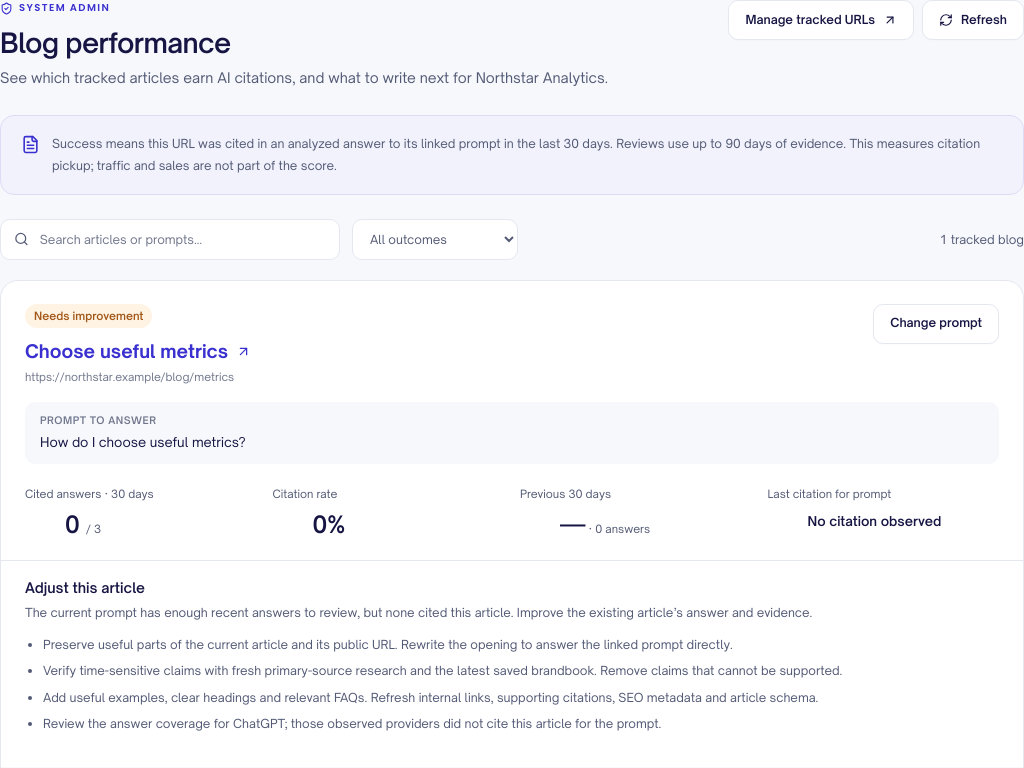
it: admin blog review › saves a versioned prompt link and can remove the association
The width and height of the screenshot is (1024, 768).
Click the button "Change prompt".
click(936, 324)  # box [873,304,999,344]
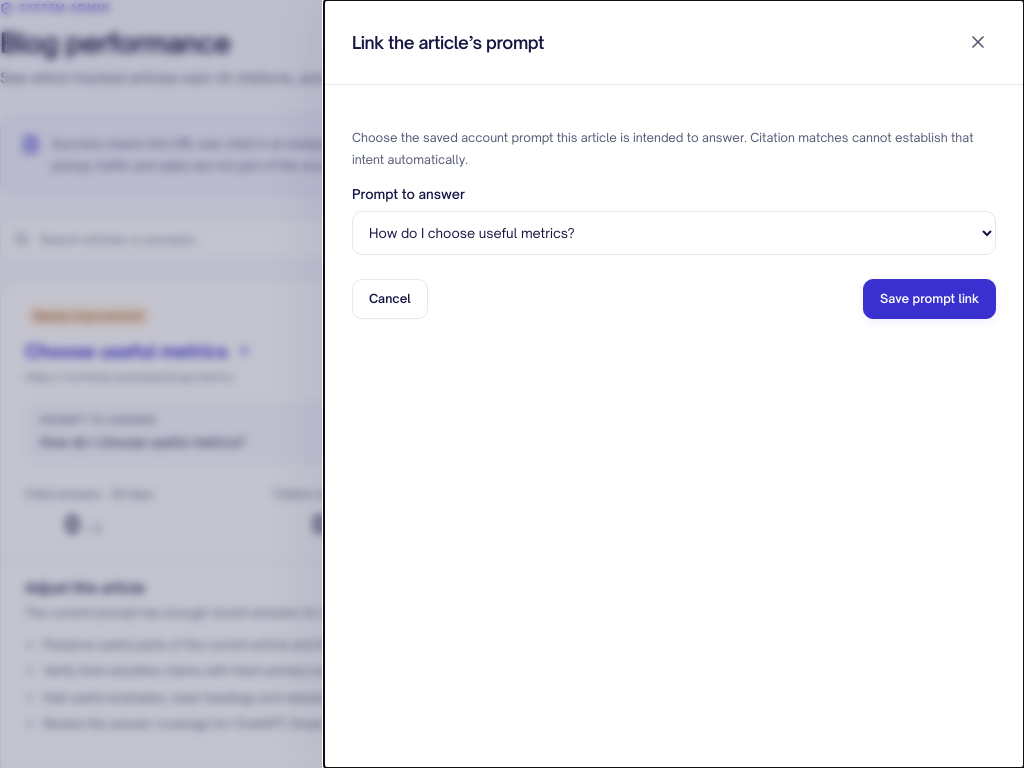
Select "No linked prompt" in the dropdown with id "blog-target-prompt" at (674, 233), box [352,211,996,255]
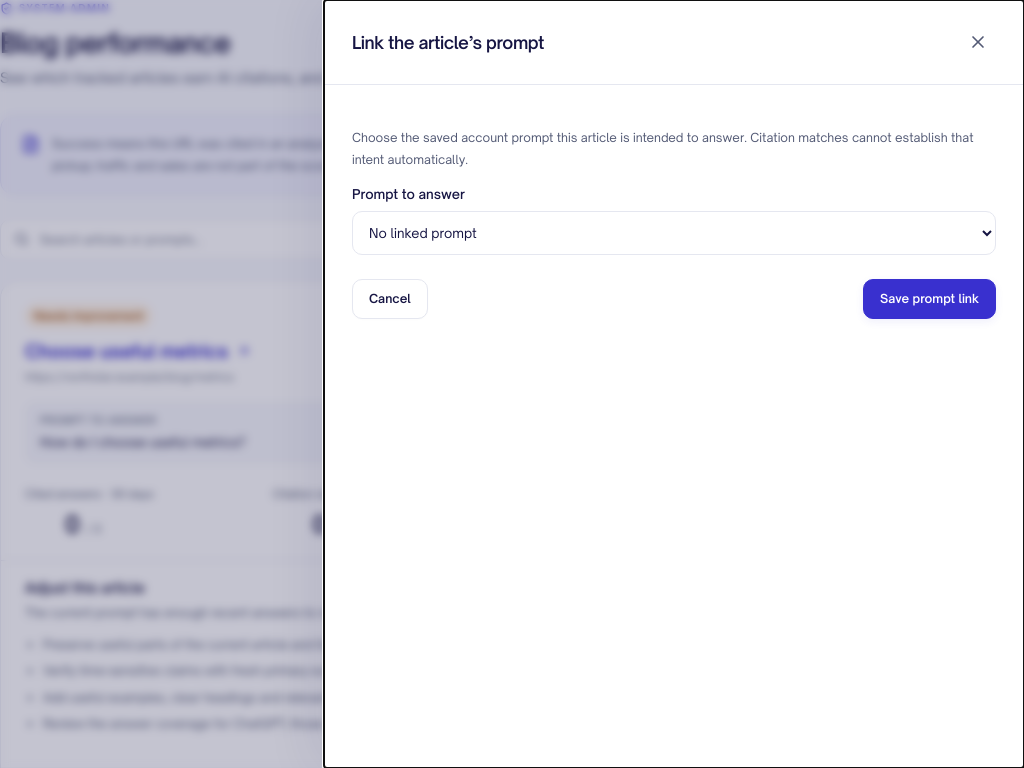
Submit the form, box [352,127,996,319]
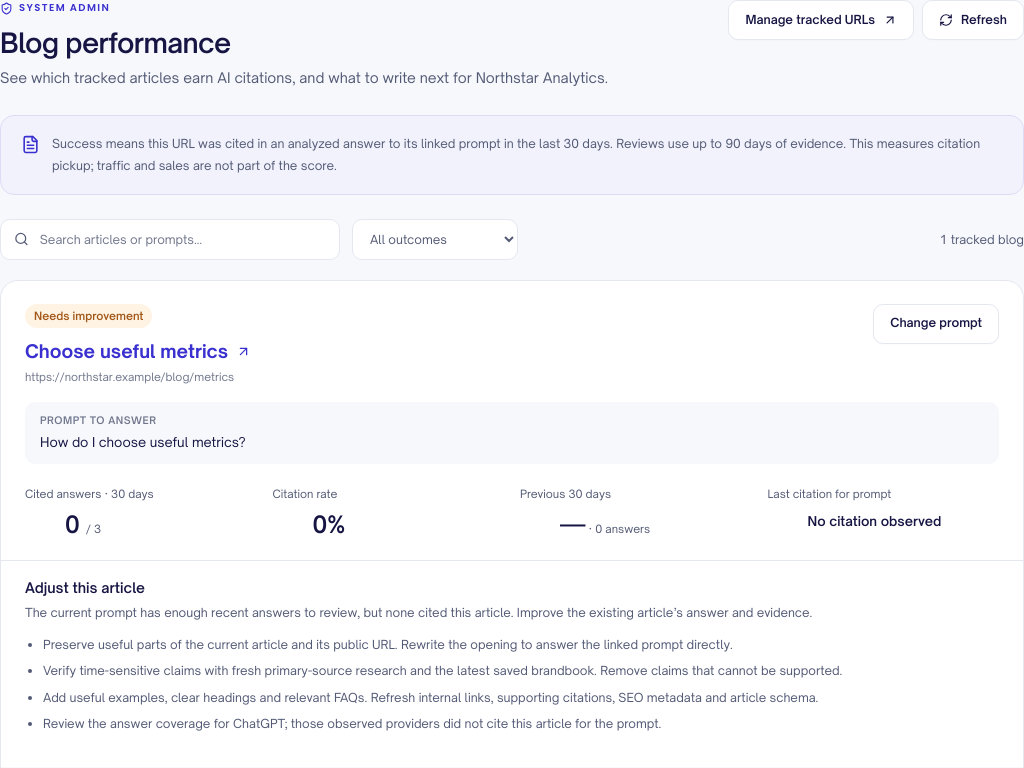
Check: the dialog is gone
